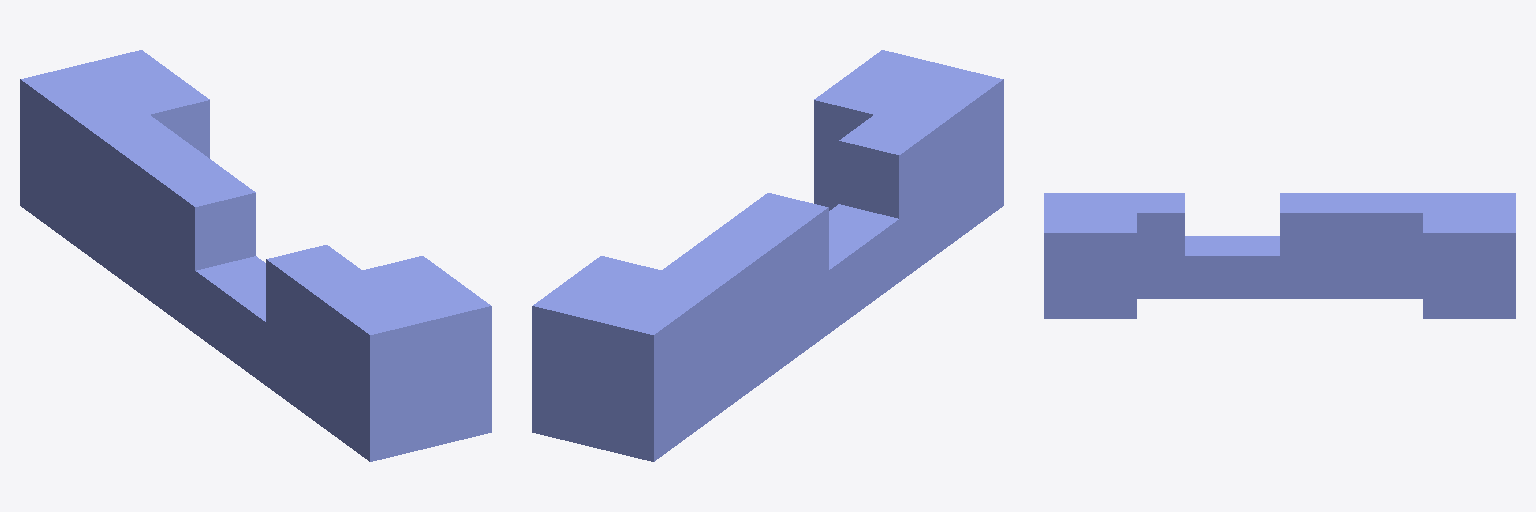
robot.urdf — obj_12:
<robot name="obj_12" version="1.0">
  <link name="obj_12_link">
    <collision name="obj_12_collision_1">
      <origin rpy="3.14159 1.57080 3.14159" xyz="-2.13455 0.74744 2.26159"/>
      <geometry>
        <mesh filename="../meshes/obj/Cube.035.obj" scale="1.00000 0.98000 1.00000"/>
      </geometry>
    </collision>
    <collision name="obj_12_collision_2">
      <origin rpy="3.14159 1.57080 3.14159" xyz="-2.13455 3.76260 2.26159"/>
      <geometry>
        <mesh filename="../meshes/obj/Cube.036.obj" scale="1.00000 0.98000 1.00000"/>
      </geometry>
    </collision>
    <collision name="obj_12_collision_3">
      <origin rpy="3.14159 1.57080 3.14159" xyz="-2.32215 2.82557 2.26327"/>
      <geometry>
        <mesh filename="../meshes/obj/Cube.037.obj" scale="2.00000 3.04000 1.00000"/>
      </geometry>
    </collision>
    <collision name="obj_12_collision_4">
      <origin rpy="3.14159 1.57080 3.14159" xyz="-2.32215 1.68440 2.07512"/>
      <geometry>
        <mesh filename="../meshes/obj/Cube.038.obj" scale="1.00000 3.04000 1.00000"/>
      </geometry>
    </collision>
    <collision name="obj_12_collision_5">
      <origin rpy="3.14159 1.57080 3.14159" xyz="-2.32215 1.30531 2.44941"/>
      <geometry>
        <mesh filename="../meshes/obj/Cube.039.obj" scale="1.00000 1.01333 1.00000"/>
      </geometry>
    </collision>
    <inertial>
      <inertia ixx="7.06445" ixy="-0.03978" ixz="0.01628" iyy="0.43812" iyz="0.00994" izz="7.08497"/>
      <origin rpy="0.00000 0.00000 0.00000" xyz="-2.20877 2.28481 2.24700"/>
      <mass value="5.00000"/>
    </inertial>
    <visual name="obj_12">
      <material name="turnaxis"/>
      <origin rpy="3.14159 1.57080 3.14159" xyz="-2.20877 2.28481 2.24700"/>
      <geometry>
        <mesh filename="../meshes/obj/luban-lock-sliding.011.obj" scale="0.05000 0.05000 0.05000"/>
      </geometry>
    </visual>
  </link>
  <material name="turnaxis">
    <color rgba="0.63922 0.70196 1.00000 1.00000"/>
  </material>
</robot>

--- Facts derived from the render (not from the file) ---
The picture shows the robot from 3 angles, left to right: view 1: azimuth 30°, elevation 25°; view 2: azimuth 150°, elevation 25°; view 3: azimuth 270°, elevation 25°; orthographic projection.
Model obj_12 with 1 links and 0 joints (none), rooted at obj_12_link, posed all joints at 0.
Visible links, largest first — view 1: obj_12_link; view 2: obj_12_link; view 3: obj_12_link.
Link boxes in pixels (x1=…): obj_12_link: x1=20, y1=50, x2=491, y2=461; obj_12_link: x1=532, y1=50, x2=1003, y2=461; obj_12_link: x1=1044, y1=193, x2=1515, y2=318.
Bounding box of the posed robot: 0.75 × 3.75 × 0.75 m (x, y, z).
Meshes: 1 distinct files referenced, 1 mesh visuals loaded (1 OBJ).